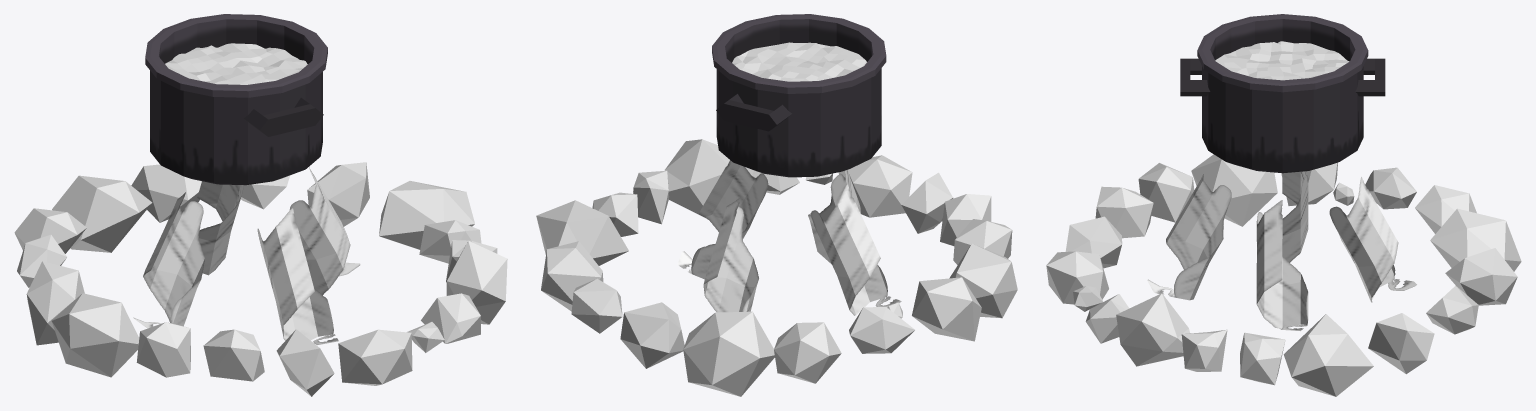
The model's file is CampFire.fbx.
3 views of the same model, side by side, from view 1: azimuth 30°, elevation 25°; view 2: azimuth 150°, elevation 25°; view 3: azimuth 270°, elevation 25° (orthographic). The views are drawn at different scales.
Visible parts, largest first — view 1: Cylinder, Cylinder.003, Icosphere.004, Cylinder.002, Icosphere.008, Plane, Icosphere.012, Cylinder.000, Icosphere, Icosphere.015, Icosphere.005, Icosphere.002 (+12 smaller); view 2: Cylinder, Icosphere.008, Cylinder.002, Cylinder.001, Plane, Icosphere.012, Cylinder.000, Icosphere.005, Icosphere.015, Icosphere.009, Icosphere.007, Icosphere.004 (+11 smaller); view 3: Cylinder, Cylinder.003, Cylinder.000, Icosphere.012, Cylinder.001, Plane, Icosphere.015, Icosphere.008, Icosphere.004, Icosphere.009, Icosphere.011, Icosphere (+12 smaller).
Part boxes in pixels (x1,y1,x2,y2): Cylinder: [145, 14, 327, 185]; Cylinder.003: [257, 208, 338, 344]; Icosphere.004: [51, 293, 139, 377]; Cylinder.002: [133, 192, 204, 328]; Icosphere.008: [52, 175, 152, 252]; Plane: [165, 43, 307, 84]; Icosphere.012: [379, 181, 474, 249]; Cylinder.000: [289, 167, 360, 294]; Icosphere: [338, 329, 412, 385]; Icosphere.015: [446, 241, 507, 324]; Icosphere.005: [26, 261, 84, 345]; Icosphere.002: [203, 329, 264, 381]; Cylinder: [712, 14, 886, 177]; Icosphere.008: [683, 311, 774, 396]; Cylinder.002: [811, 184, 901, 315]; Cylinder.001: [703, 197, 758, 312]; Plane: [732, 42, 866, 81]; Icosphere.012: [536, 200, 628, 265]; Cylinder.000: [677, 160, 768, 279]; Icosphere.005: [912, 277, 981, 341]; Icosphere.015: [664, 139, 729, 217]; Icosphere.009: [620, 302, 684, 368]; Icosphere.007: [774, 322, 841, 383]; Icosphere.004: [949, 243, 1017, 318]; Cylinder: [1180, 14, 1385, 173]; Cylinder.003: [1147, 174, 1231, 300]; Cylinder.000: [1256, 200, 1308, 331]; Icosphere.012: [1283, 314, 1373, 396]; Cylinder.001: [1329, 177, 1416, 302]; Plane: [1215, 41, 1349, 80]; Icosphere.015: [1116, 293, 1189, 366]; Icosphere.008: [1430, 208, 1521, 271]; Icosphere.004: [1191, 154, 1277, 226]; Icosphere.009: [1445, 248, 1517, 305]; Icosphere.011: [1368, 313, 1434, 374]; Icosphere: [1046, 251, 1108, 304].
Size of the model in its own units: 239 by 135 by 235.
